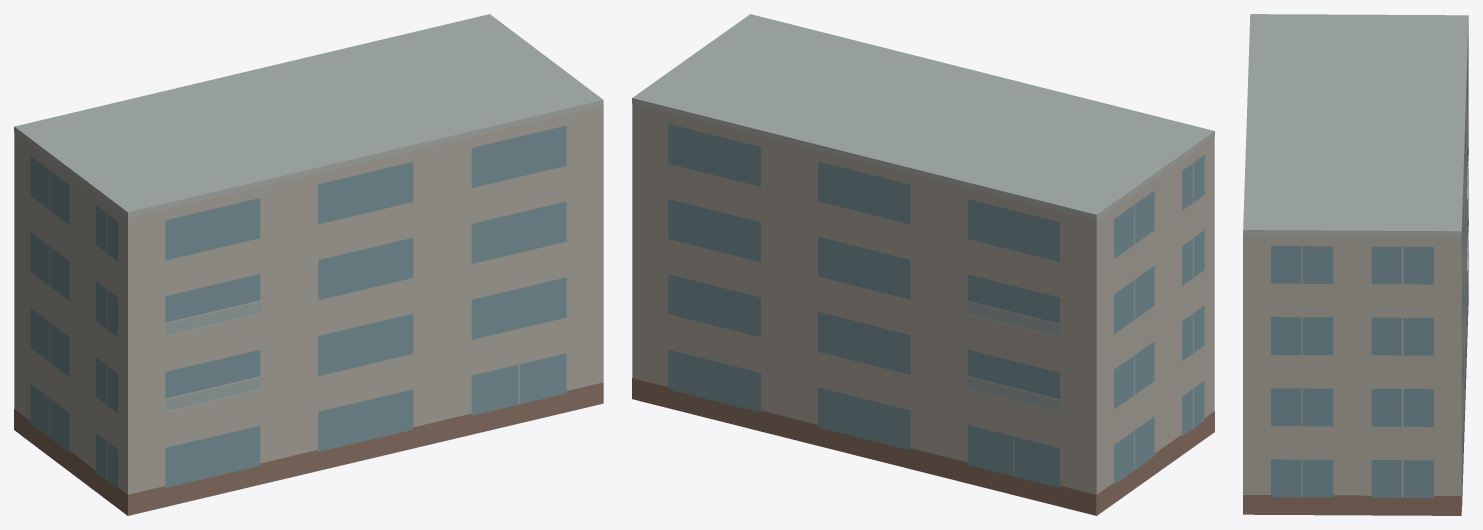
File: survey-upis-32810552.glb
The picture shows the model from 3 angles, left to right: view 1: azimuth 30°, elevation 25°; view 2: azimuth 150°, elevation 25°; view 3: azimuth 270°, elevation 25°; orthographic projection. The views are drawn at different scales.
Parts seen in each view (by area): view 1: survey-upis-32810552.tmp; view 2: survey-upis-32810552.tmp; view 3: survey-upis-32810552.tmp.
Boxes of the visible parts, x1,y1,x2,y2 form: survey-upis-32810552.tmp: (14,14,603,515); survey-upis-32810552.tmp: (632,14,1214,515); survey-upis-32810552.tmp: (1243,14,1468,515).
Bounding box in the file's own units: 20.79 × 12.7 × 9.14.
